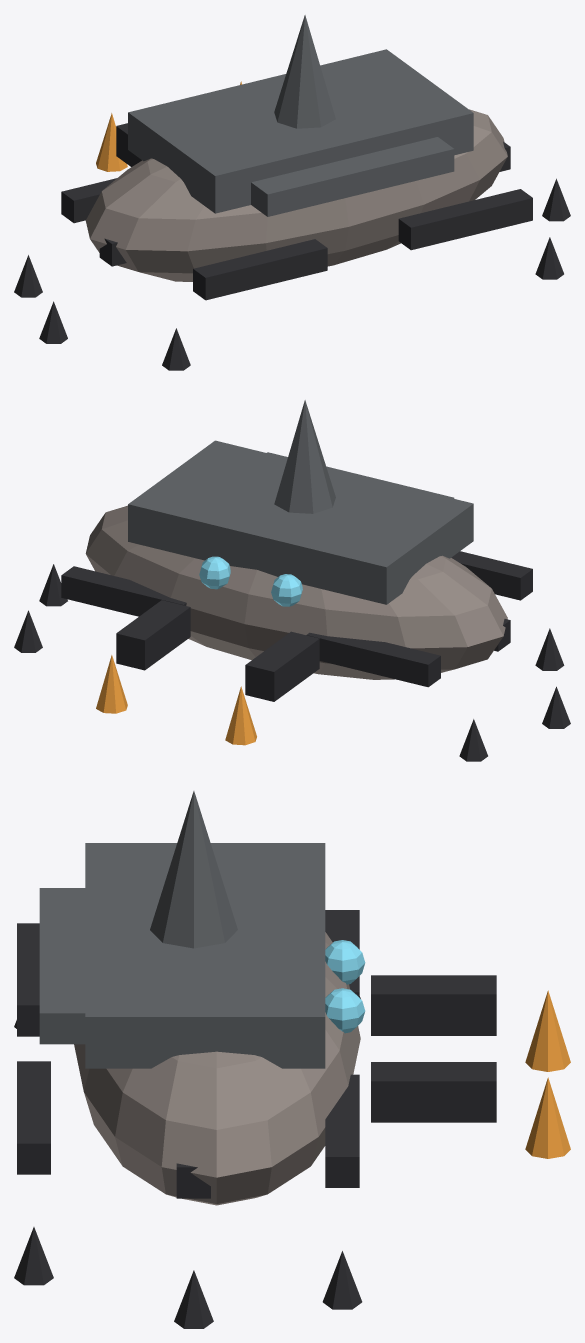
The model's file is SM_Unit_RockTick.glb.
3 renders of one model, top to bottom at view 1: azimuth 30°, elevation 25°; view 2: azimuth 150°, elevation 25°; view 3: azimuth 270°, elevation 25°, orthographic. The views are drawn at different scales.
Parts seen in each view (by area): view 1: SM_Unit_RockTick; view 2: SM_Unit_RockTick; view 3: SM_Unit_RockTick.
Boxes of the visible parts, x1,y1,x2,y2 form: SM_Unit_RockTick: (14, 15, 570, 370); SM_Unit_RockTick: (14, 400, 570, 761); SM_Unit_RockTick: (14, 791, 570, 1328).
Bounding box in the file's own units: 1.46 × 0.7 × 0.975.
